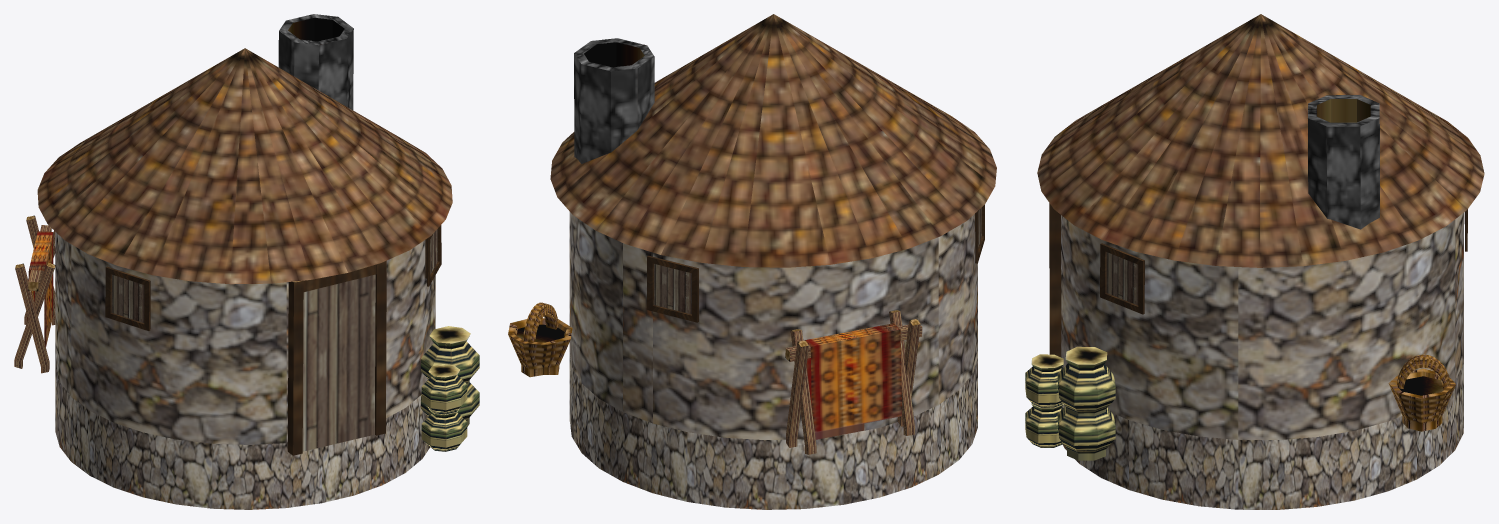
The model's file is house_3.dae.
3 views of the same model, side by side, from view 1: azimuth 30°, elevation 25°; view 2: azimuth 150°, elevation 25°; view 3: azimuth 270°, elevation 25° (orthographic). The views are drawn at different scales.
Parts seen in each view (by area): view 1: house_3; view 2: house_3; view 3: house_3.
Part boxes in pixels (left/top/right/bottom): house_3: left=14, top=14, right=479, bottom=509; house_3: left=508, top=14, right=996, bottom=509; house_3: left=1025, top=14, right=1484, bottom=509.
Bounding box in the file's own units: 10.48 × 10.67 × 10.51.
